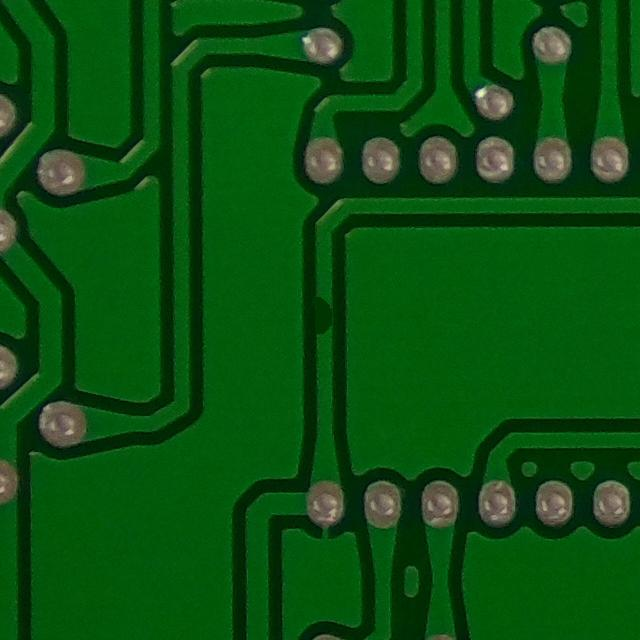mouse_bite: (301, 291, 339, 350)
